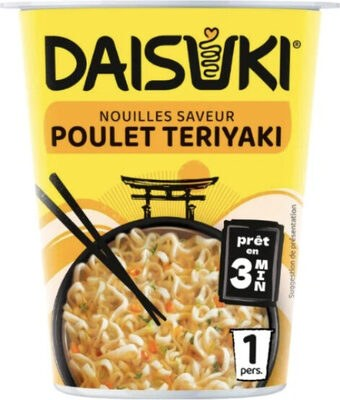Nouilles saveur Poulet Teriyaki: (17, 20, 323, 380)
